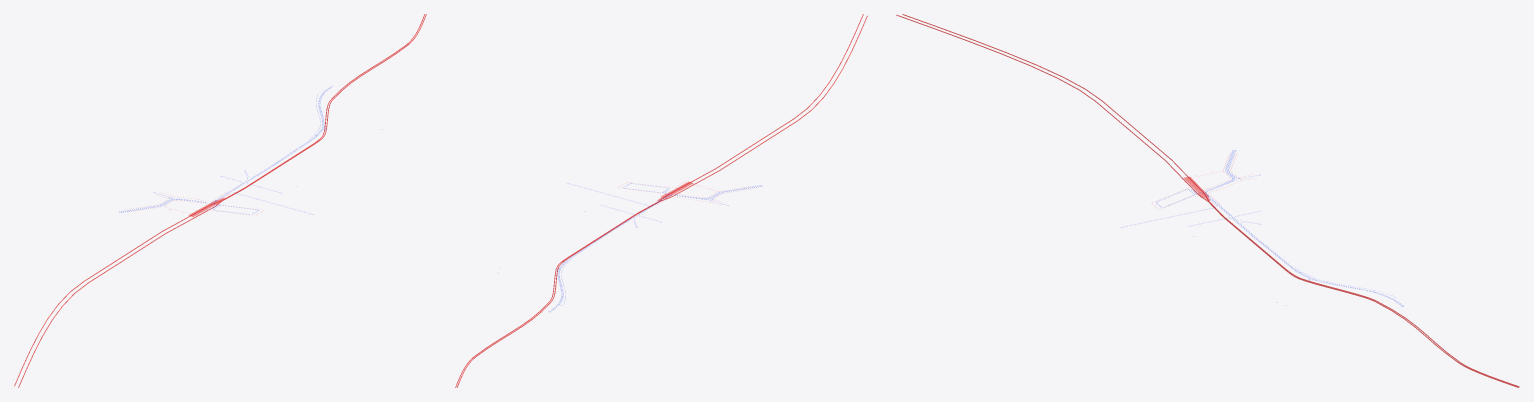
File: LAYERS.FBX
The picture shows the model from 3 angles, left to right: view 1: azimuth 30°, elevation 25°; view 2: azimuth 210°, elevation 25°; view 3: azimuth 270°, elevation 25°; orthographic projection. The views are drawn at different scales.
Visible parts, largest first — view 1: L_KLB_Subway_TPK; view 2: L_KLB_Subway_TPK; view 3: L_KLB_Subway_TPK.
Boxes of the visible parts, left/top/right/bottom form: L_KLB_Subway_TPK: left=14, top=14, right=426, bottom=387; L_KLB_Subway_TPK: left=455, top=14, right=867, bottom=387; L_KLB_Subway_TPK: left=896, top=14, right=1519, bottom=387.
Bounding box in the file's own units: 4708 × 14.83 × 3323.
